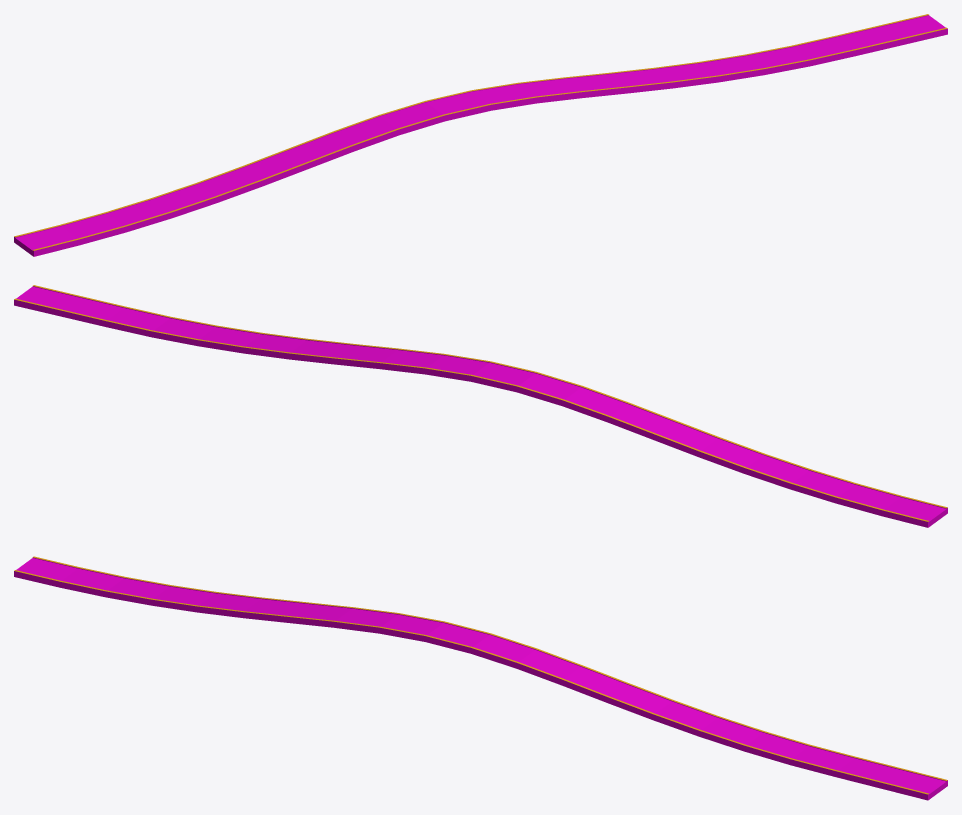
Rendered from roaddd.fbx.
3 renders of one model, top to bottom at view 1: azimuth 30°, elevation 25°; view 2: azimuth 150°, elevation 25°; view 3: azimuth 330°, elevation 25°, orthographic.
Parts seen in each view (by area): view 1: Cube.001; view 2: Cube.001; view 3: Cube.001.
Part boxes in pixels (bbox=[...]): Cube.001: bbox=[14, 14, 947, 256]; Cube.001: bbox=[14, 285, 947, 527]; Cube.001: bbox=[14, 556, 947, 800].
Bounding box in the file's own units: 15939 × 697 × 600.
